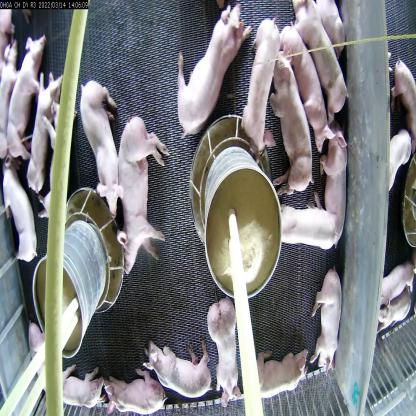Pig: (113, 117, 168, 273), (178, 2, 244, 130), (75, 74, 124, 218), (280, 20, 329, 147), (268, 37, 309, 186), (298, 0, 348, 111), (148, 333, 214, 402), (8, 36, 44, 160), (27, 70, 65, 186), (268, 192, 331, 260), (206, 297, 245, 405), (241, 17, 271, 147), (2, 155, 32, 283), (322, 128, 357, 235), (312, 267, 343, 377), (42, 362, 102, 415), (254, 345, 309, 400), (104, 368, 168, 415)
